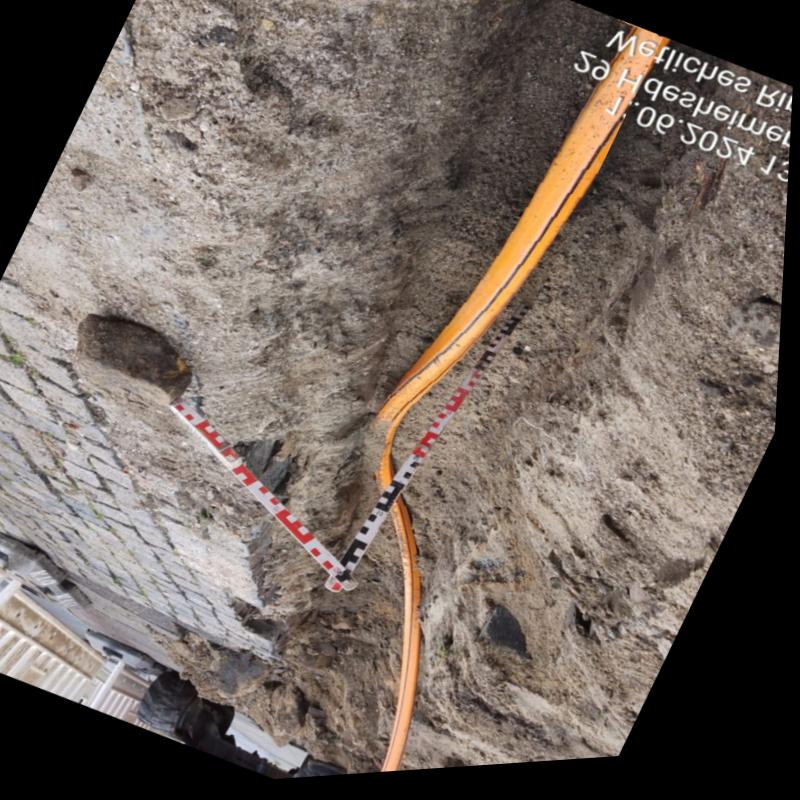Orang-Speednetrohrchen: (371, 34, 664, 501)
